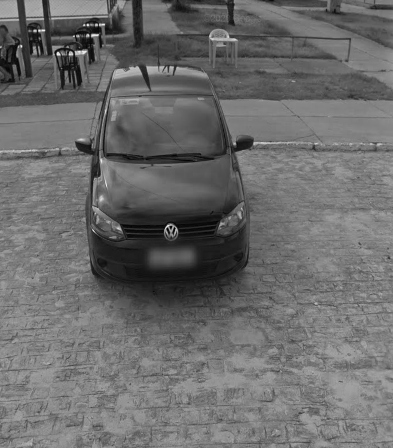car: (73, 43, 257, 289)
